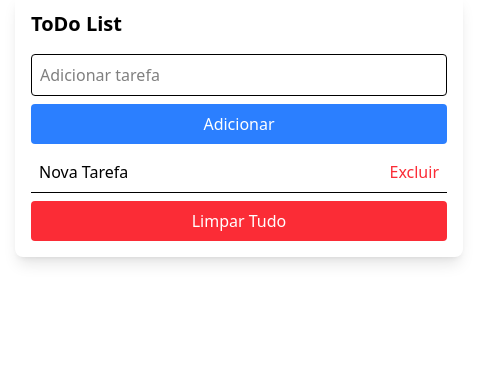
Test: TodoList Component › deve limpar todas as tarefas
The width and height of the screenshot is (479, 365).
Step 1. Type "Tarefa a ser removida" into the field with test id "todo-input" → x=239, y=75, box left=31, top=54, right=447, bottom=96
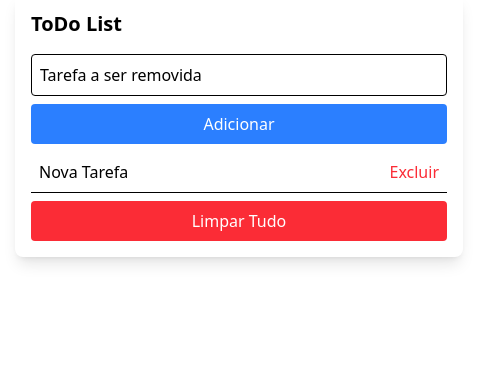
Step 2. Click the button with test id "add-button" → x=239, y=124, box left=31, top=104, right=447, bottom=144
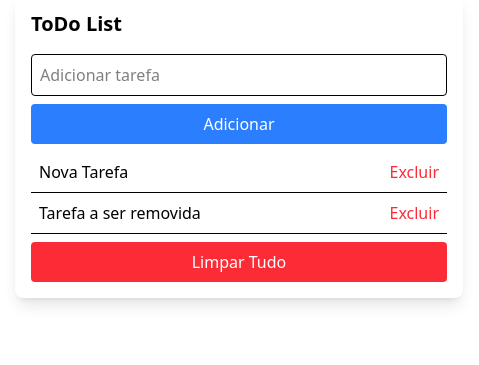
Step 3. Type "Outra Tarefa" into the field with test id "todo-input" → x=239, y=75, box left=31, top=54, right=447, bottom=96
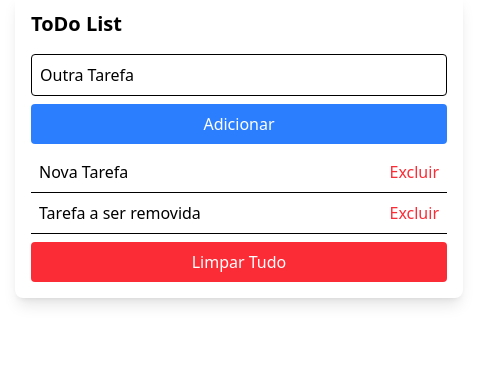
Step 4. Click the button with test id "add-button" → x=239, y=124, box left=31, top=104, right=447, bottom=144
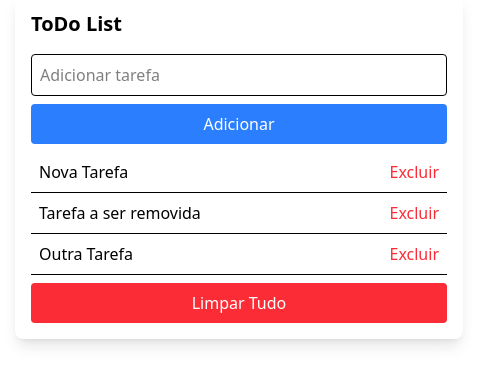
Step 5. Click the button with test id "clear-button" → x=239, y=303, box left=31, top=283, right=447, bottom=323
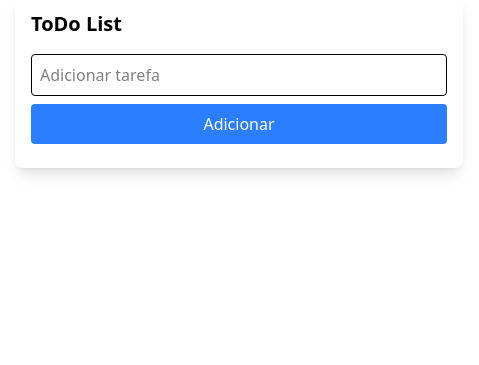
Expected: the text "Tarefa a ser removida" is gone
Expected: the text "Outra Tarefa" is gone
